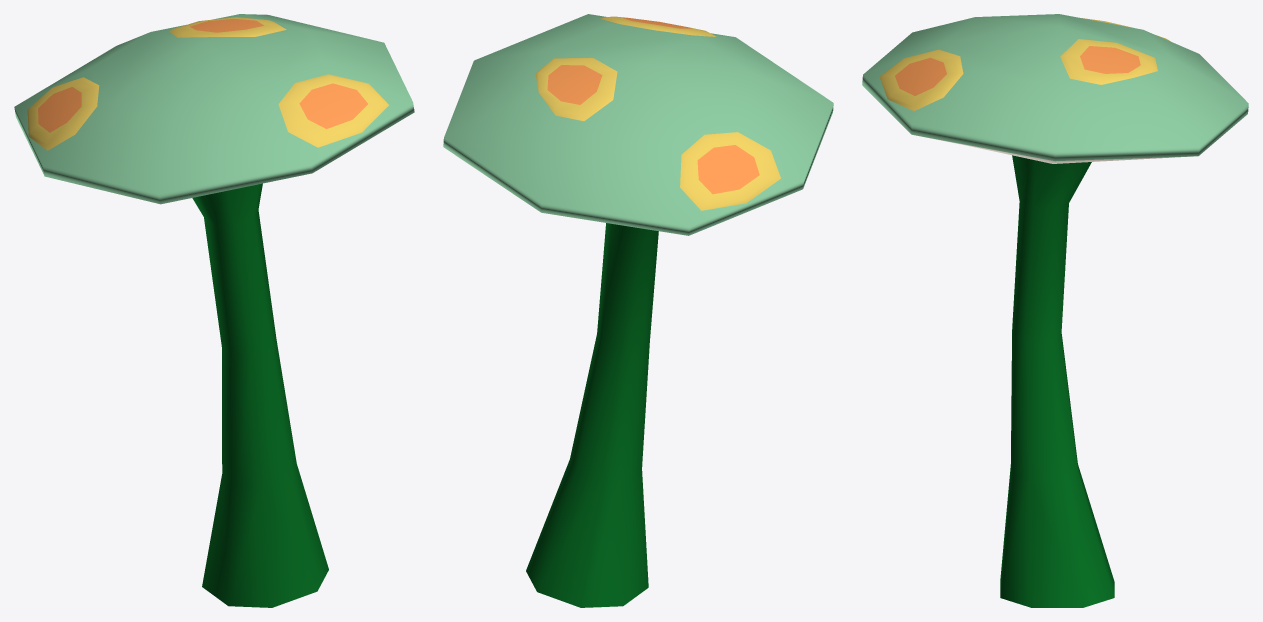
The model's file is Mushroom_2.fbx.
The picture shows the model from 3 angles, left to right: view 1: azimuth 30°, elevation 25°; view 2: azimuth 150°, elevation 25°; view 3: azimuth 270°, elevation 25°; orthographic projection. The views are drawn at different scales.
Visible parts, largest first — view 1: Mushroom_2; view 2: Mushroom_2; view 3: Mushroom_2.
Boxes of the visible parts, box(x1,y1,x2,y2) form: Mushroom_2: box(14, 14, 414, 607); Mushroom_2: box(443, 14, 833, 607); Mushroom_2: box(862, 14, 1248, 607).
Size of the model in its own units: 156 by 156 by 241.
